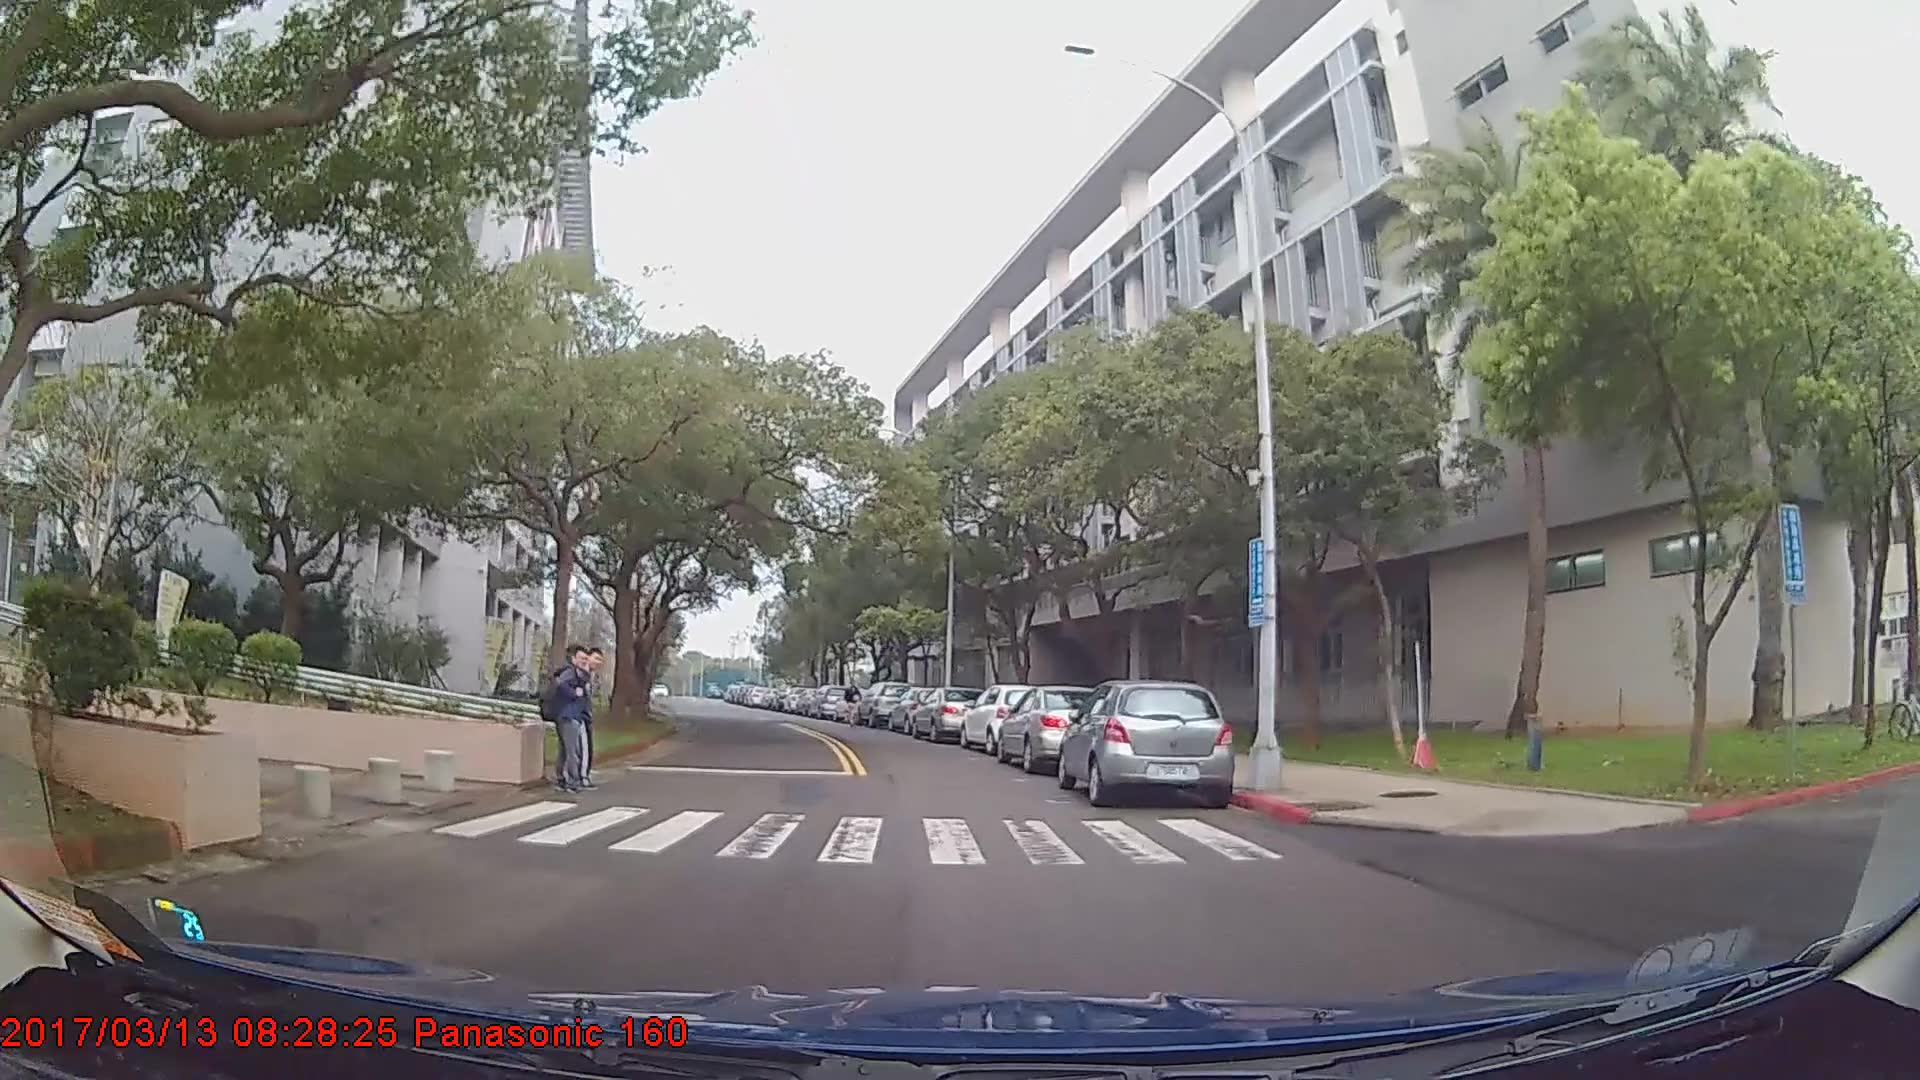pedestrian: (540, 644, 599, 799), (844, 679, 865, 730)
vehicle: (1058, 678, 1235, 808), (993, 684, 1110, 774), (959, 684, 1054, 757), (907, 683, 989, 742), (855, 679, 913, 725), (810, 682, 847, 719)
